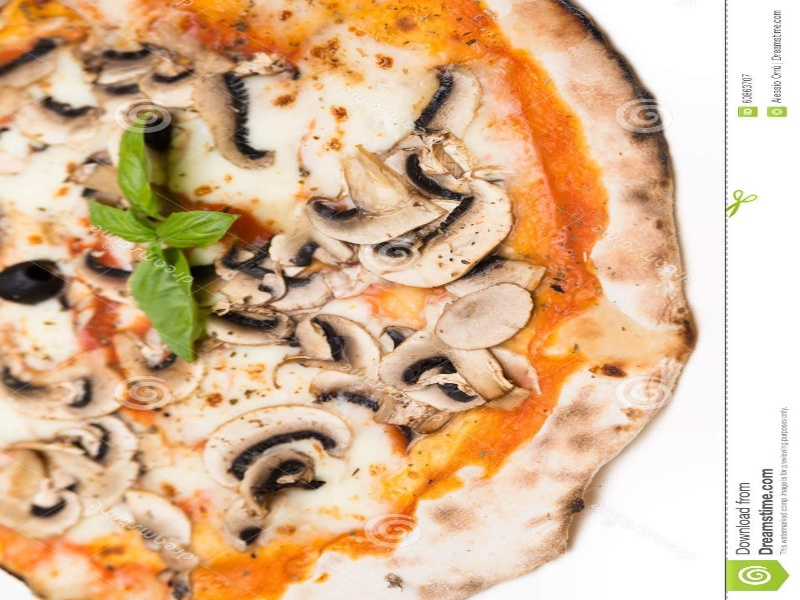champignon: (300, 144, 456, 251), (199, 404, 368, 491)
